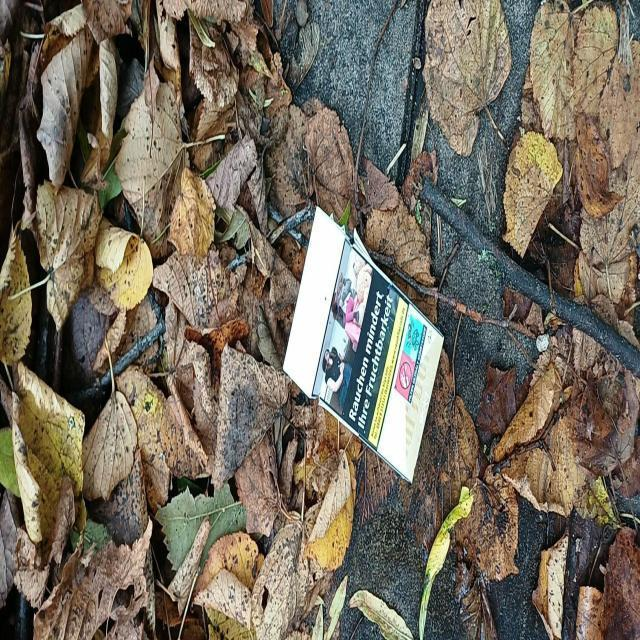Paper: (282, 204, 446, 490)
